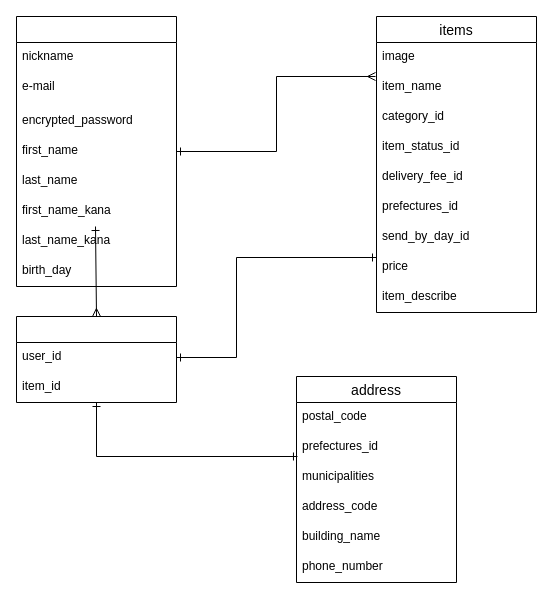
This 553x599 diagram has some shape labels left out. Here are the shapes that lost their labels. From the top down, the box of each, then its label:
(16, 16, 176, 286): users
(16, 316, 176, 402): purchase_log
